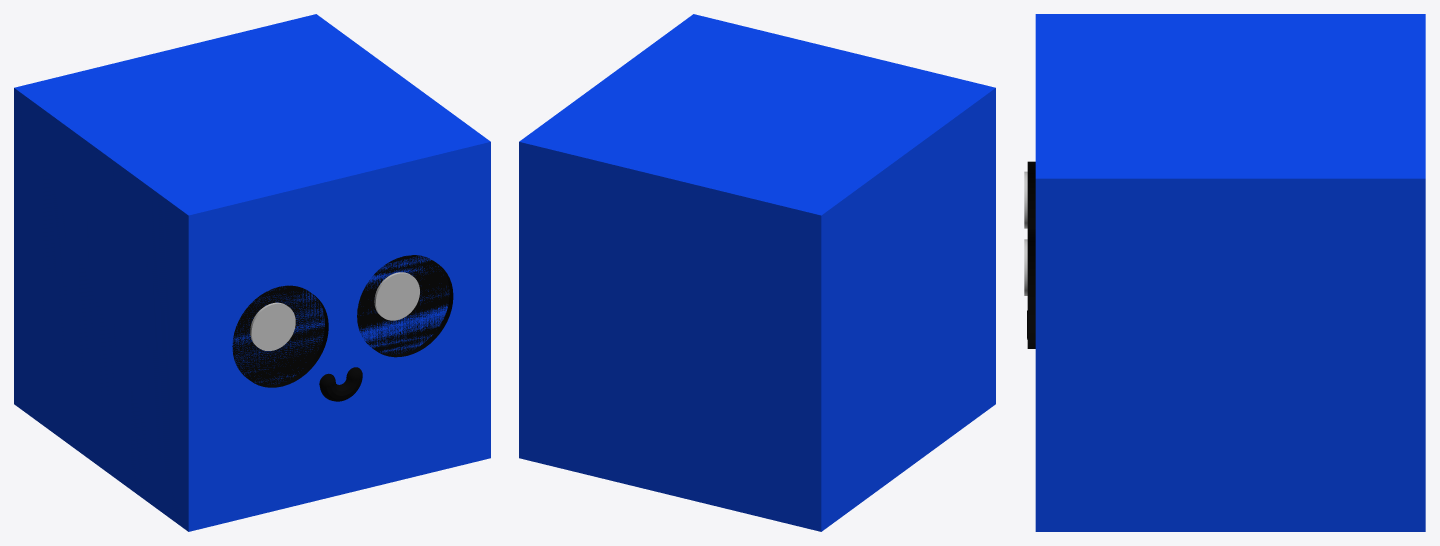
File: Linerly.obj
3 renders of one model, left to right at view 1: azimuth 30°, elevation 25°; view 2: azimuth 150°, elevation 25°; view 3: azimuth 270°, elevation 25°, orthographic. The views are drawn at different scales.
Visible parts, largest first — view 1: Cubie_path990_Material, Cubie_path990_Material.001, Cubie_path990_Material.002; view 2: Cubie_path990_Material; view 3: Cubie_path990_Material, Cubie_path990_Material.001.
Boxes of the visible parts, x1=… form: Cubie_path990_Material: x1=14, y1=14, x2=490, y2=531; Cubie_path990_Material.001: x1=232, y1=255, x2=453, y2=401; Cubie_path990_Material.002: x1=250, y1=272, x2=419, y2=350; Cubie_path990_Material: x1=519, y1=14, x2=995, y2=531; Cubie_path990_Material: x1=1035, y1=14, x2=1425, y2=531; Cubie_path990_Material.001: x1=1027, y1=161, x2=1035, y2=348.
Size of the model in its own units: 2.4 by 2.4 by 2.47.
